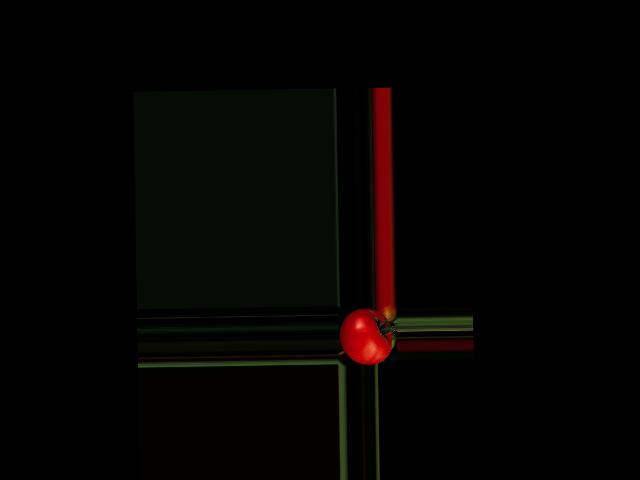tomato: (338, 309, 392, 365)
